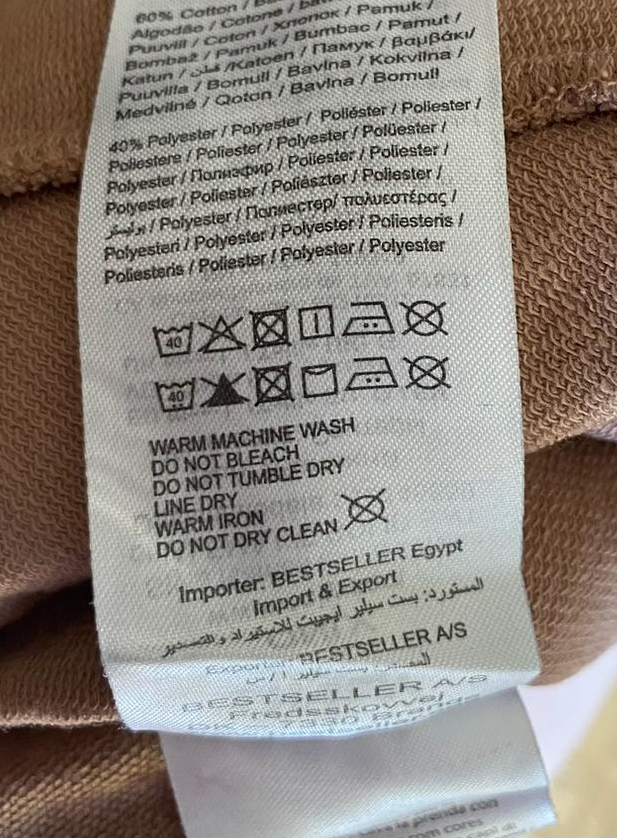do_not_bleach: (197, 366, 252, 412), (196, 309, 248, 357)
do_not_dry_clean: (342, 484, 392, 530), (398, 297, 452, 339), (401, 350, 455, 392)
do_not_tumble_drying: (251, 358, 297, 408), (248, 303, 294, 352)
ironing_at_med_temp: (338, 298, 396, 338), (342, 354, 400, 393)
line_dry: (296, 302, 339, 342), (300, 357, 341, 398)
wash_at_or_below_40: (149, 317, 195, 359), (154, 374, 199, 413)
